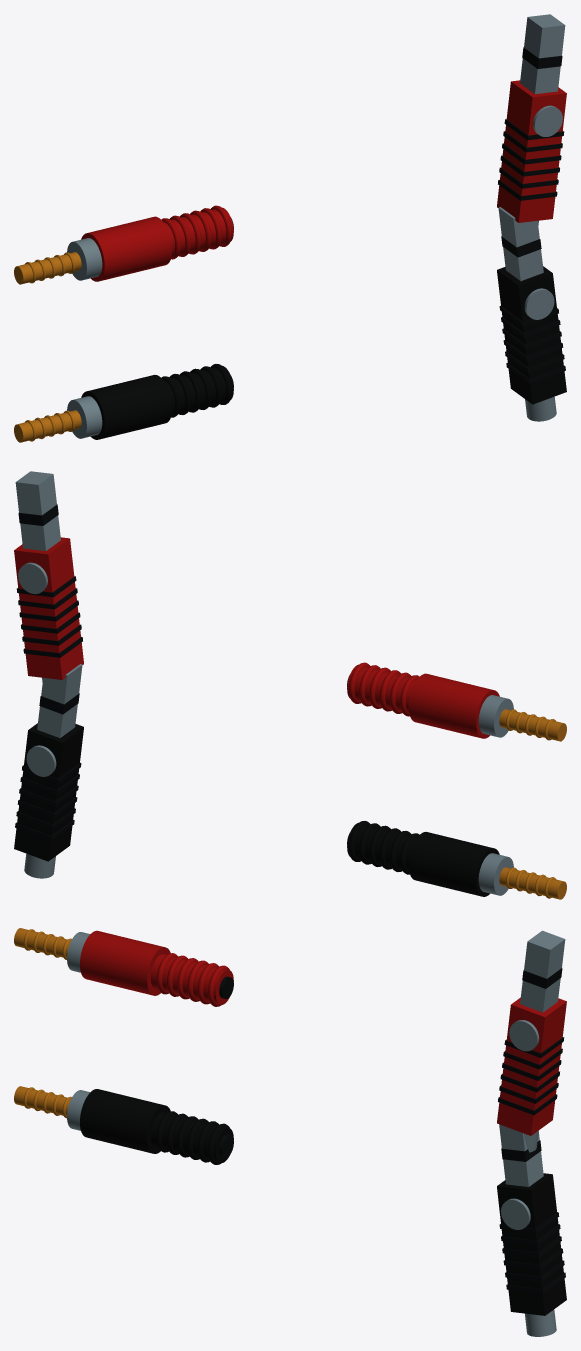
Rendered from positioner-test-connectors.fbx.
3 views of the same model, one above another, from view 1: azimuth 30°, elevation 25°; view 2: azimuth 150°, elevation 25°; view 3: azimuth 330°, elevation 25° (orthographic).
Visible parts, largest first — view 1: positive_insulated_clip_body, common_insulated_clip_body, positive_insulated_plug, common_insulated_plug, positive_metal_jaw_upper, common_metal_jaw_upper, positive_strain_relief, common_strain_relief, common_4mm_contact_pin, positive_4mm_contact_pin, common_plug_shoulder, positive_plug_shoulder (+3 smaller); view 2: positive_insulated_clip_body, common_insulated_clip_body, positive_insulated_plug, common_insulated_plug, positive_metal_jaw_upper, common_metal_jaw_upper, positive_strain_relief, common_strain_relief, common_4mm_contact_pin, positive_4mm_contact_pin, common_plug_shoulder, positive_plug_shoulder (+3 smaller); view 3: common_insulated_clip_body, positive_insulated_clip_body, positive_insulated_plug, common_insulated_plug, positive_metal_jaw_upper, common_metal_jaw_upper, positive_strain_relief, common_strain_relief, positive_4mm_contact_pin, common_4mm_contact_pin, positive_jaw_pivot, common_jaw_pivot (+3 smaller).
Part boxes in pixels (x1,y1,x2,y2): positive_insulated_clip_body: (497, 80, 566, 222); common_insulated_clip_body: (497, 266, 566, 404); positive_insulated_plug: (81, 216, 172, 281); common_insulated_plug: (81, 375, 172, 439); positive_metal_jaw_upper: (520, 14, 565, 93); common_metal_jaw_upper: (498, 207, 543, 280); positive_strain_relief: (163, 207, 233, 255); common_strain_relief: (163, 365, 233, 413); common_4mm_contact_pin: (14, 410, 81, 442); positive_4mm_contact_pin: (14, 252, 81, 284); common_plug_shoulder: (67, 396, 102, 438); positive_plug_shoulder: (67, 238, 102, 280); positive_insulated_clip_body: (14, 537, 83, 679); common_insulated_clip_body: (14, 723, 83, 861); positive_insulated_plug: (408, 673, 499, 738); common_insulated_plug: (408, 832, 499, 896); positive_metal_jaw_upper: (15, 471, 60, 550); common_metal_jaw_upper: (37, 664, 82, 737); positive_strain_relief: (347, 664, 417, 712); common_strain_relief: (347, 822, 417, 870); common_4mm_contact_pin: (499, 867, 566, 899); positive_4mm_contact_pin: (499, 709, 566, 741); common_plug_shoulder: (478, 853, 513, 895); positive_plug_shoulder: (478, 695, 513, 737); common_insulated_clip_body: (497, 1173, 566, 1315); positive_insulated_clip_body: (497, 997, 566, 1135); positive_insulated_plug: (80, 930, 170, 995); common_insulated_plug: (80, 1089, 170, 1153); positive_metal_jaw_upper: (520, 930, 565, 1012); common_metal_jaw_upper: (499, 1124, 543, 1186); positive_strain_relief: (150, 954, 233, 1004); common_strain_relief: (150, 1112, 233, 1163); positive_4mm_contact_pin: (14, 928, 70, 957); common_4mm_contact_pin: (14, 1086, 70, 1115); positive_jaw_pivot: (509, 1020, 539, 1051); common_jaw_pivot: (501, 1198, 530, 1229).
Size of the model in its own units: 0.0999 by 0.0701 by 0.0082.
